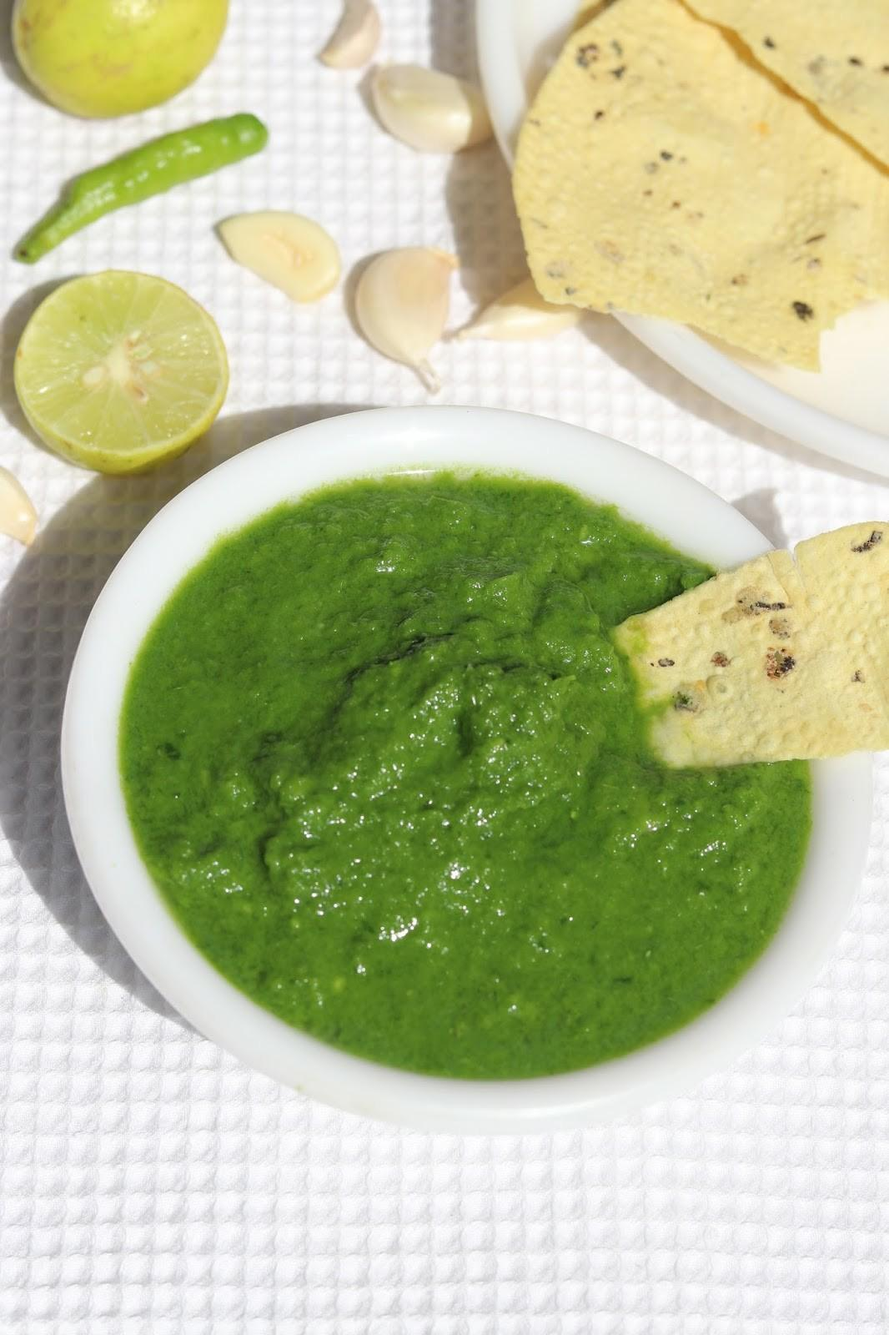GreenChutney: (124, 468, 813, 1080)
